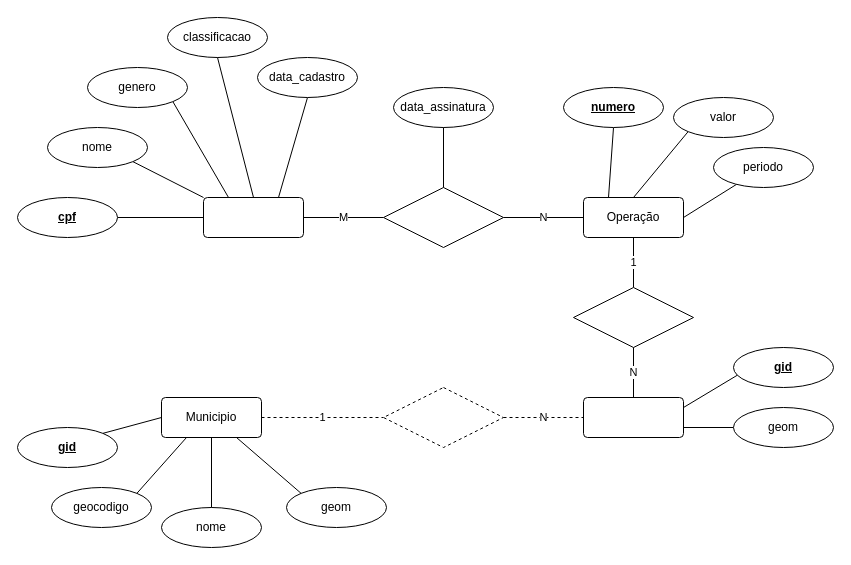
The diagram is 851 pixels wide and 565 high, and some of its shapes have lost their labels. Here are the shapes that lost their labels. From the top down, the box of each, then its label:
(202, 196, 304, 238): Contratante
(382, 186, 504, 248): contrata
(572, 286, 694, 348): associada
(382, 386, 504, 448): contém/contida
(582, 396, 684, 438): Gleba
